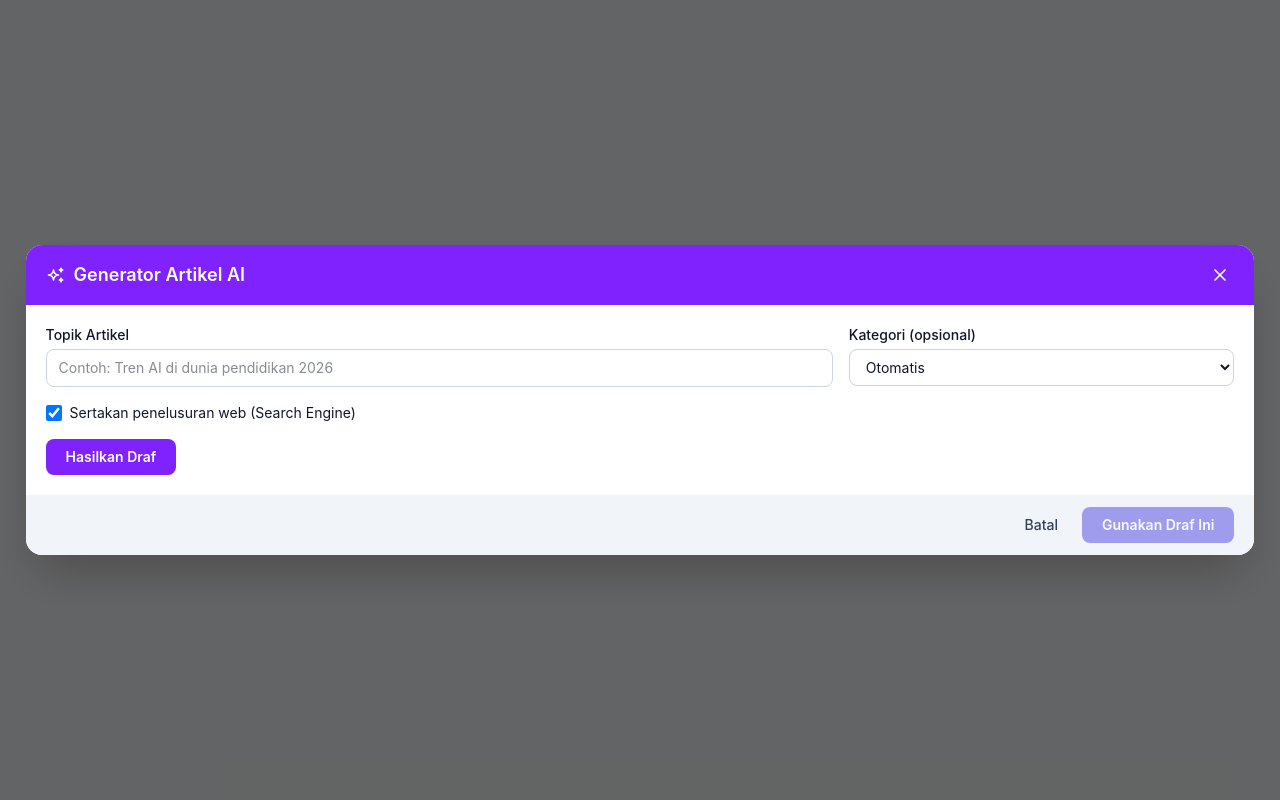
Scenario: AiPostGeneratorModal › mengirim kategori pilihan dan tanpa penelusuran web
The image size is (1280, 800).
Type "Strategi bisnis" into the field labelled "Topik Artikel" at (439, 368), box [46, 349, 833, 387]
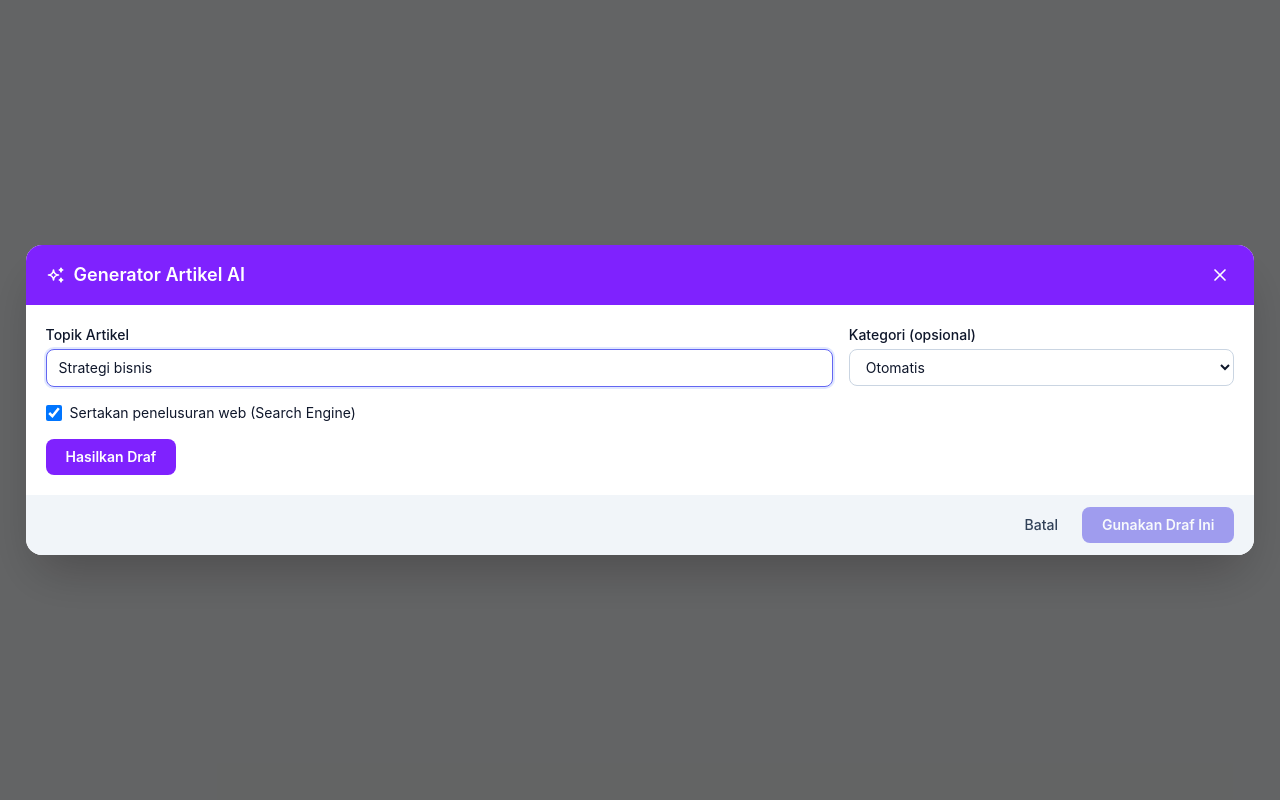
Select "Bisnis" in the dropdown labelled "Kategori (opsional)" at (1042, 368), box [849, 349, 1234, 386]
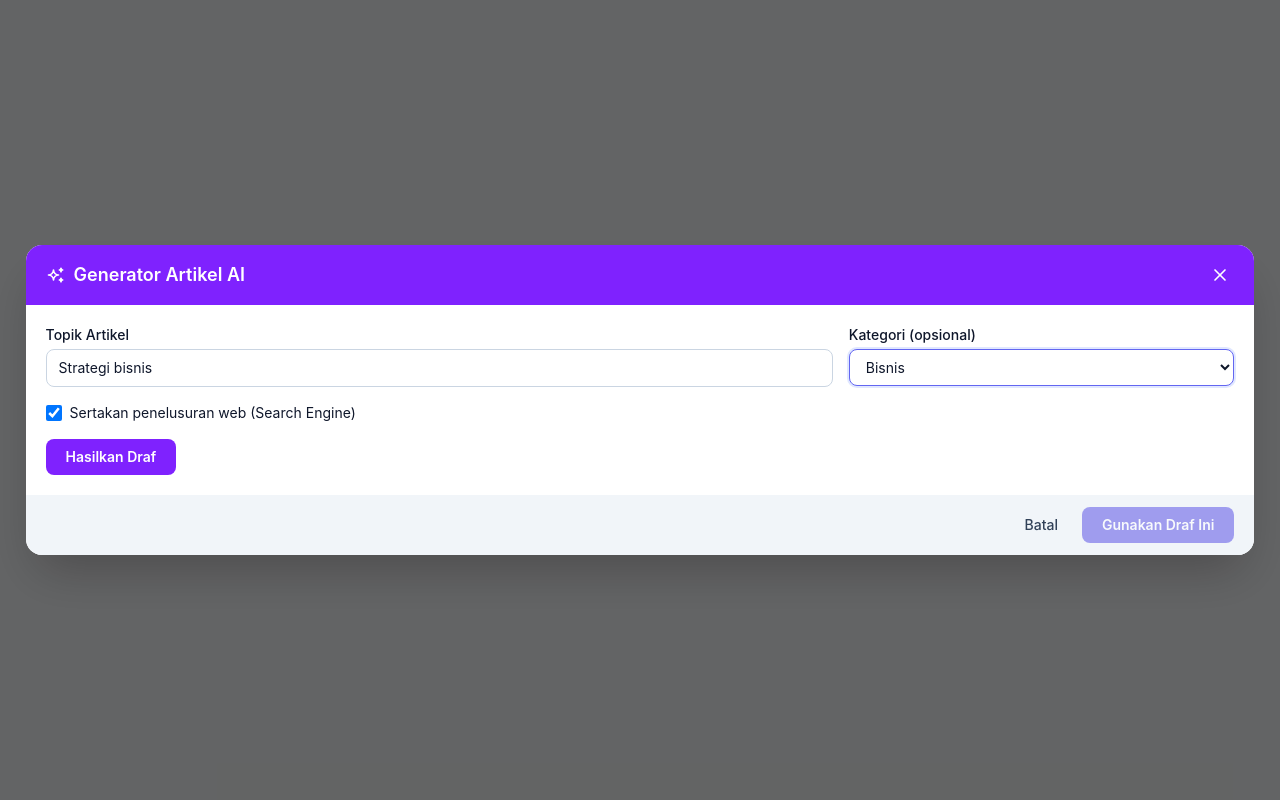
Click the checkbox labelled "Sertakan penelusuran web (Search Engine)" at (54, 413), box [46, 405, 62, 421]
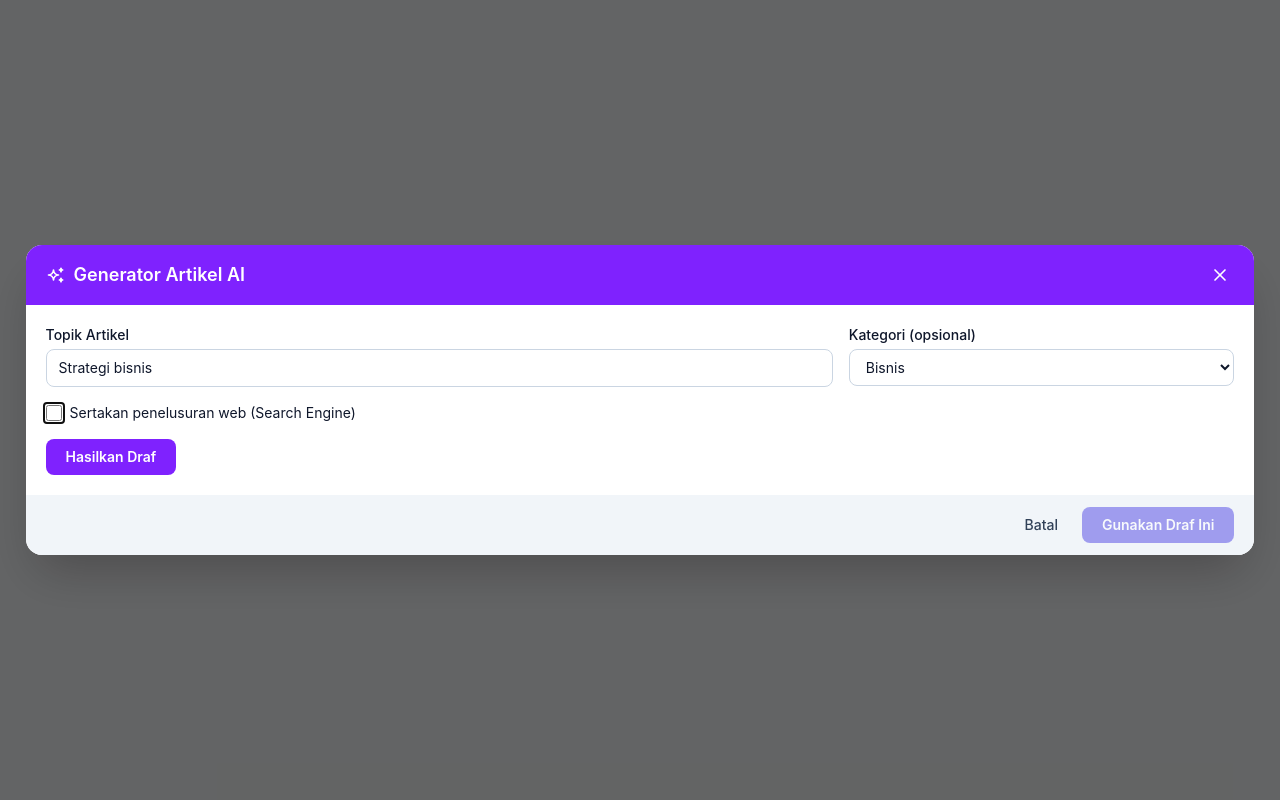
Click the button "Hasilkan Draf" at (111, 457), box [46, 439, 176, 475]
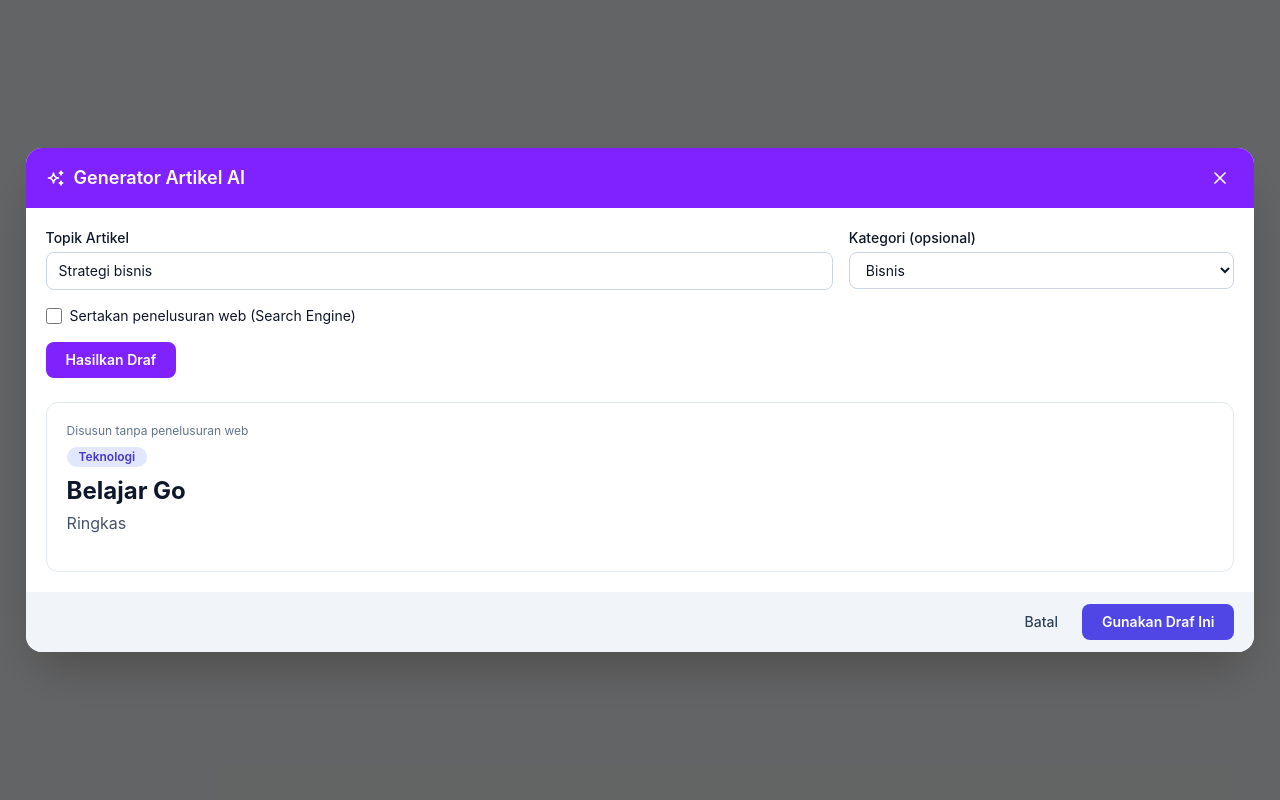
Check: the text "Disusun tanpa penelusuran web" is shown, box [67, 423, 248, 438]
